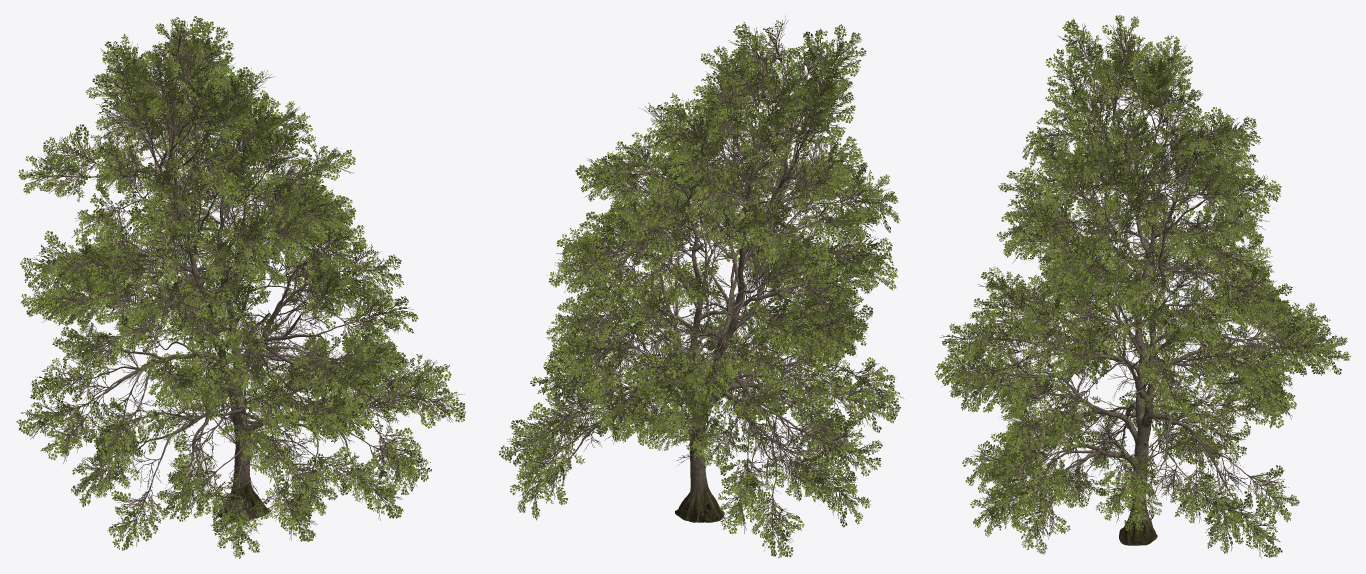
The model's file is SM_BlackAlder_Field_01.gltf.
3 renders of one model, left to right at view 1: azimuth 30°, elevation 25°; view 2: azimuth 150°, elevation 25°; view 3: azimuth 270°, elevation 25°, orthographic. The views are drawn at different scales.
Visible parts, largest first — view 1: SM_BlackAlder_Field_01; view 2: SM_BlackAlder_Field_01; view 3: SM_BlackAlder_Field_01.
Boxes of the visible parts, x1=… form: SM_BlackAlder_Field_01: x1=16, y1=16, x2=466, y2=558; SM_BlackAlder_Field_01: x1=499, y1=16, x2=903, y2=557; SM_BlackAlder_Field_01: x1=935, y1=15, x2=1350, y2=558.
Size of the model in its own units: 11.94 by 16.05 by 12.62.
4 materials, 4 textured.
